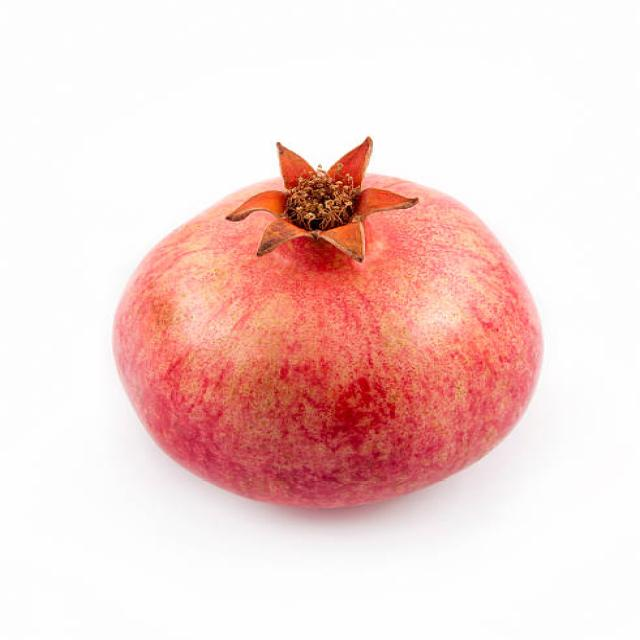Ripe: (108, 129, 548, 514)
